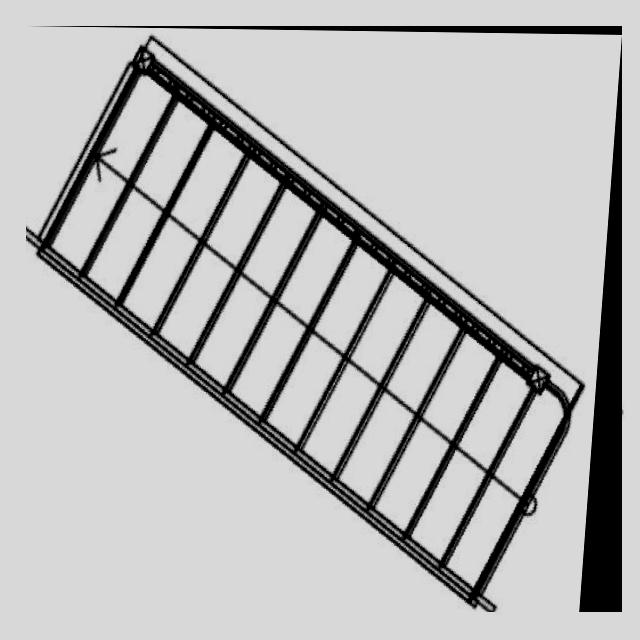stair: (26, 26, 622, 612)
